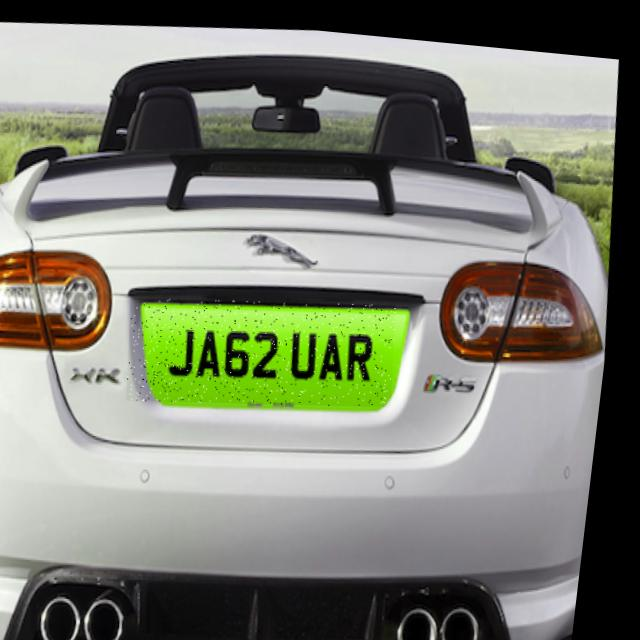license_plate: (128, 276, 408, 416)
